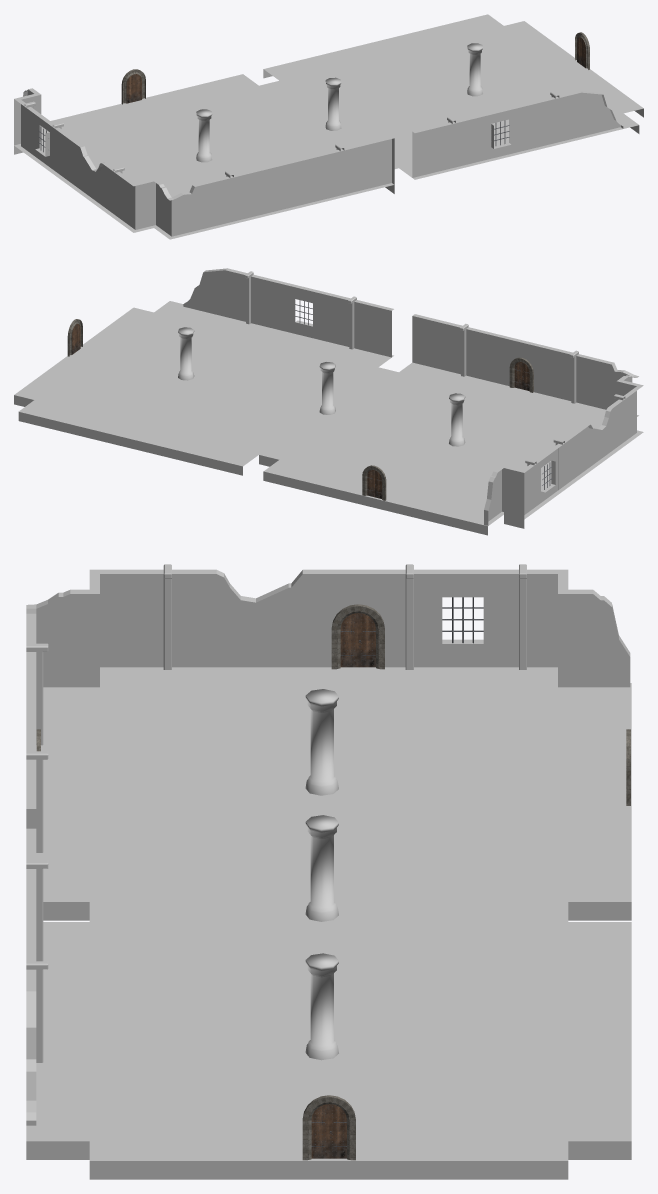
Rendered from def002_room.fbx.
The picture shows the model from 3 angles, top to bottom: view 1: azimuth 30°, elevation 25°; view 2: azimuth 150°, elevation 25°; view 3: azimuth 270°, elevation 25°; orthographic projection. The views are drawn at different scales.
Visible parts, largest first — view 1: def002_floor, wall002_3, pillar_002.004, pillar_002.005, pillar_002.003, def002_door_wood_4, def002_door_stone_4; view 2: def002_floor, wall002_3, pillar_002.004, pillar_002.005, pillar_002.003, def002_door_wood_2, def002_door_wood_4; view 3: def002_floor, wall002_3, pillar_002.003, pillar_002.004, pillar_002.005, def002_door_wood_1, def002_door_wood_3, def002_door_stone_3, def002_door_stone_1, pillar_001.011, pillar_001.012, pillar_001.007 (+4 smaller).
Part boxes in pixels (x1,y1,x2,y2): def002_floor: (14,14,643,239); wall002_3: (14,88,623,236); pillar_002.004: (196,109,212,162); pillar_002.005: (467,43,482,96); pillar_002.003: (325,77,341,130); def002_door_wood_4: (126,74,141,103); def002_door_stone_4: (121,69,145,104); def002_floor: (14,301,643,535); wall002_3: (183,268,643,525); pillar_002.004: (449,393,465,446); pillar_002.005: (178,327,194,380); pillar_002.003: (319,362,335,414); def002_door_wood_2: (514,362,529,390); def002_door_wood_4: (367,470,381,498); def002_floor: (26,667,631,1179); wall002_3: (26,569,630,1125); pillar_002.003: (305,815,338,921); pillar_002.004: (305,689,338,795); pillar_002.005: (305,953,338,1060); def002_door_wood_1: (311,1104,346,1158); def002_door_wood_3: (340,613,375,667); def002_door_stone_3: (331,604,384,669); def002_door_stone_1: (302,1095,355,1160); pillar_001.011: (163,564,171,669); pillar_001.012: (405,564,413,669); pillar_001.007: (26,961,48,1062).
Size of the model in its own units: 5726 by 629 by 2942.
